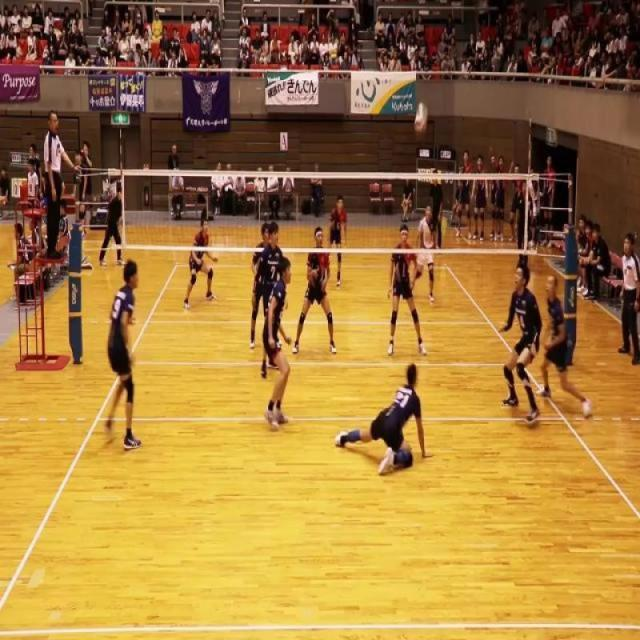volleyball: (414, 99, 428, 140)
